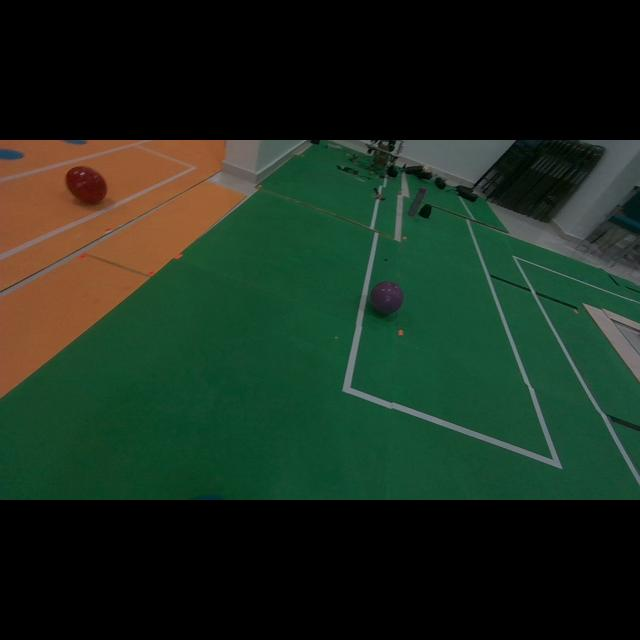P: (371, 281, 404, 314)
R: (65, 166, 108, 204)
